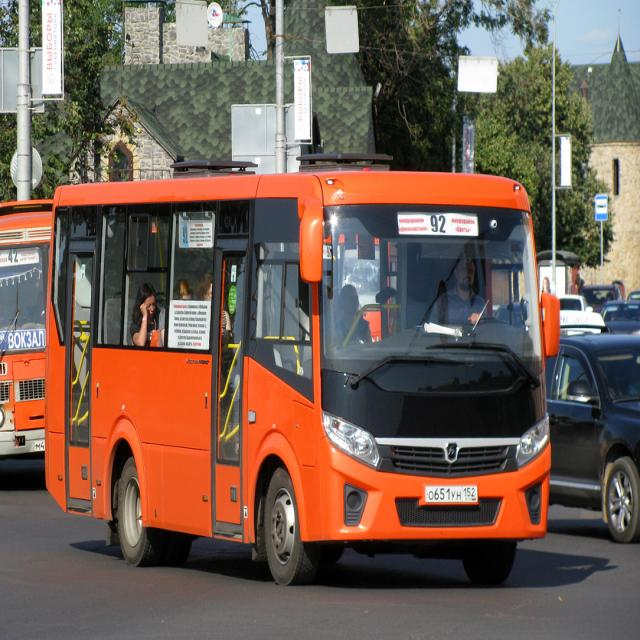number-of-bus: (430, 215, 450, 236)
